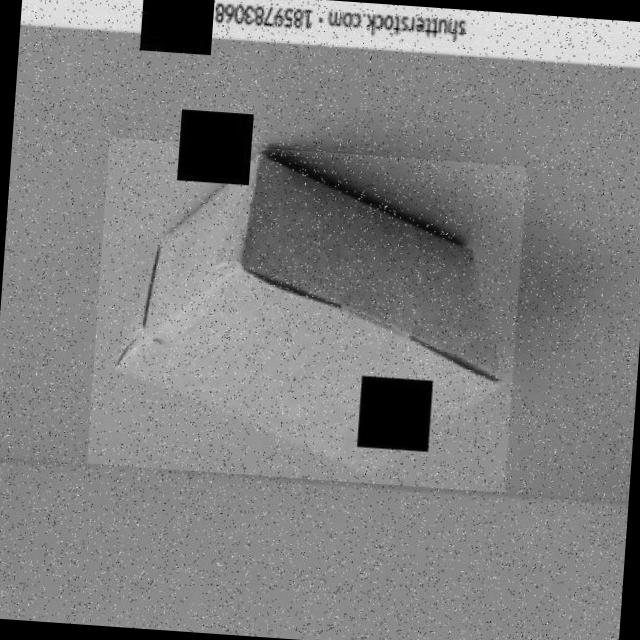box: (86, 137, 527, 492)
